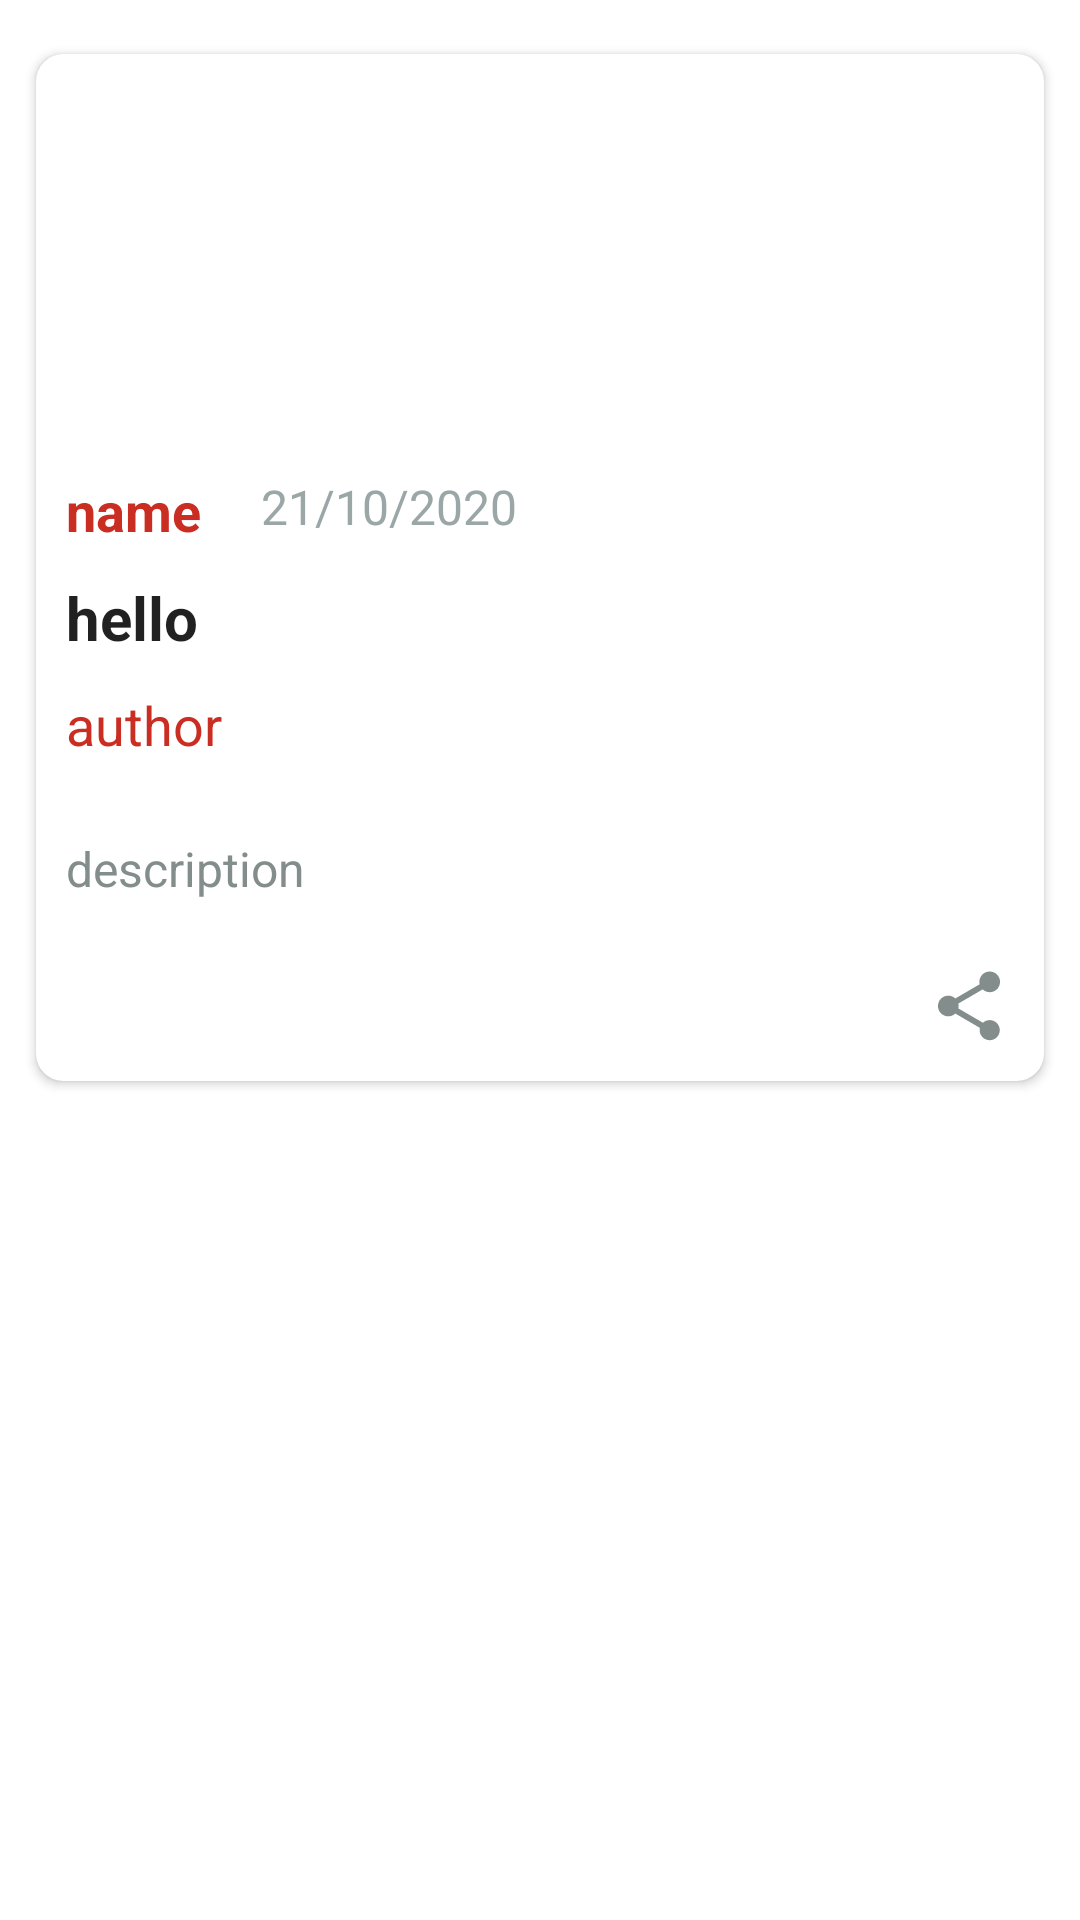

Locate icon controls on the screen. Image size 1080 × 1920, boxes as (x1, y1, x2, y2).
share: (938, 971, 1000, 1041)
